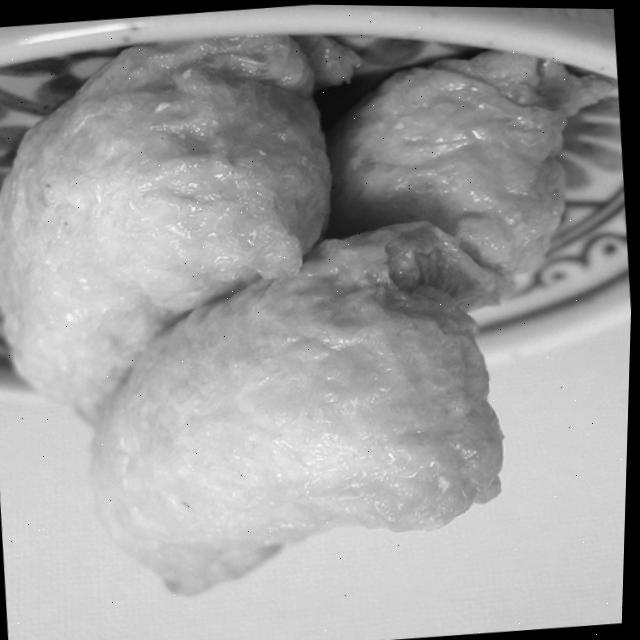寿司卷物: (0, 6, 640, 640)
